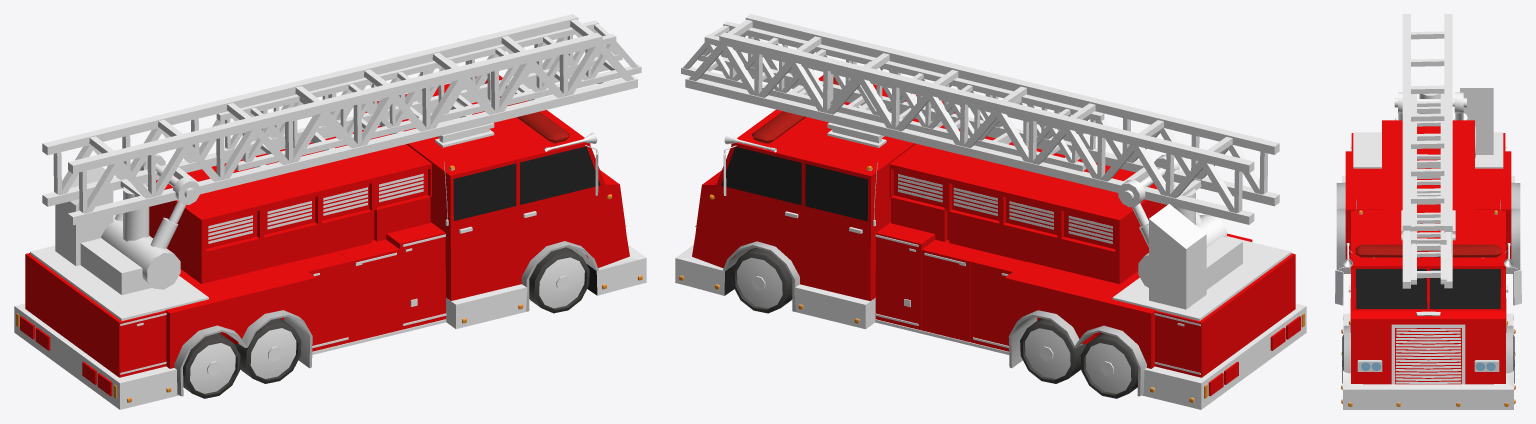
File: truck.obj
3 renders of one model, left to right at view 1: azimuth 30°, elevation 25°; view 2: azimuth 150°, elevation 25°; view 3: azimuth 270°, elevation 25°, orthographic. The views are drawn at different scales.
Parts seen in each view (by area): view 1: Mesh_170, Mesh_152, Mesh_174, Mesh_171, Mesh_34, Mesh_35, Mesh_8, Mesh_153, Mesh_172, Mesh_175, Mesh_156, Mesh_144 (+28 smaller); view 2: Mesh_170, Mesh_152, Mesh_174, Mesh_171, Mesh_8, Mesh_34, Mesh_9, Mesh_153, Mesh_142, Mesh_172, Mesh_175, Mesh_156 (+28 smaller); view 3: Mesh_152, Mesh_153, Mesh_151, Mesh_170, Mesh_171, Mesh_8, Mesh_34, Mesh_144, Mesh_142, Mesh_154, Mesh_262, Mesh_264 (+29 smaller).
Part boxes in pixels (box(x1,y1,x2,y2)): Mesh_170: box(149, 126, 431, 283); Mesh_152: box(365, 75, 629, 300); Mesh_174: box(25, 253, 166, 377); Mesh_171: box(165, 261, 316, 368); Mesh_34: box(68, 33, 602, 173); Mesh_35: box(68, 75, 637, 225); Mesh_8: box(42, 14, 578, 155); Mesh_153: box(453, 146, 600, 295); Mesh_172: box(338, 239, 399, 341); Mesh_175: box(386, 222, 447, 330); Mesh_156: box(14, 303, 178, 409); Mesh_144: box(30, 245, 208, 320); Mesh_170: box(889, 125, 1166, 284); Mesh_152: box(692, 75, 960, 300); Mesh_174: box(1155, 253, 1295, 377); Mesh_171: box(1005, 233, 1252, 368); Mesh_8: box(719, 32, 1254, 173); Mesh_34: box(745, 14, 1279, 154); Mesh_9: box(685, 76, 1254, 224); Mesh_153: box(721, 146, 867, 295); Mesh_142: box(1149, 204, 1206, 309); Mesh_172: box(921, 239, 983, 341); Mesh_175: box(873, 222, 935, 330); Mesh_156: box(1142, 303, 1306, 409); Mesh_152: box(1350, 210, 1506, 384); Mesh_153: box(1356, 269, 1500, 308); Mesh_151: box(1343, 311, 1513, 409); Mesh_170: box(1382, 120, 1474, 210); Mesh_171: box(1345, 151, 1511, 259); Mesh_8: box(1444, 14, 1452, 232); Mesh_34: box(1402, 14, 1410, 232); Mesh_144: box(1353, 132, 1503, 168); Mesh_142: box(1460, 88, 1493, 154); Mesh_154: box(1355, 244, 1501, 257); Mesh_262: box(1336, 208, 1520, 273); Mesh_264: box(1343, 325, 1513, 373).
Size of the model in its own units: 2.29 by 0.8789 by 0.7889.
